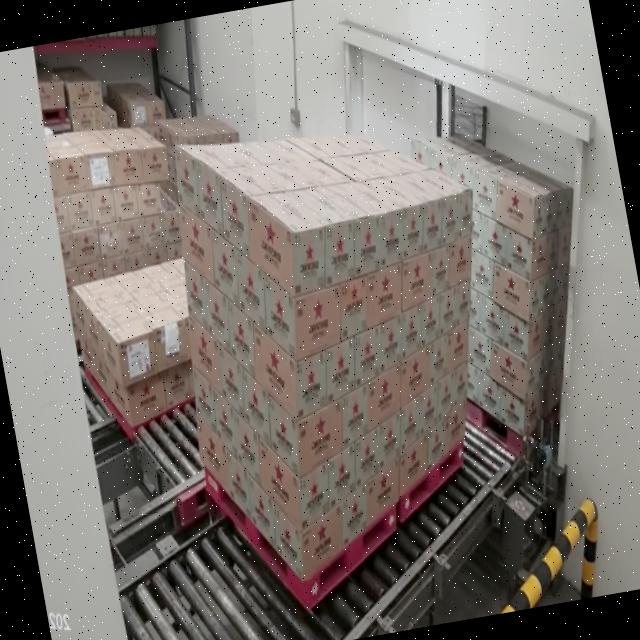pallet: (138, 86, 415, 636), (310, 75, 524, 532), (410, 88, 624, 499)
